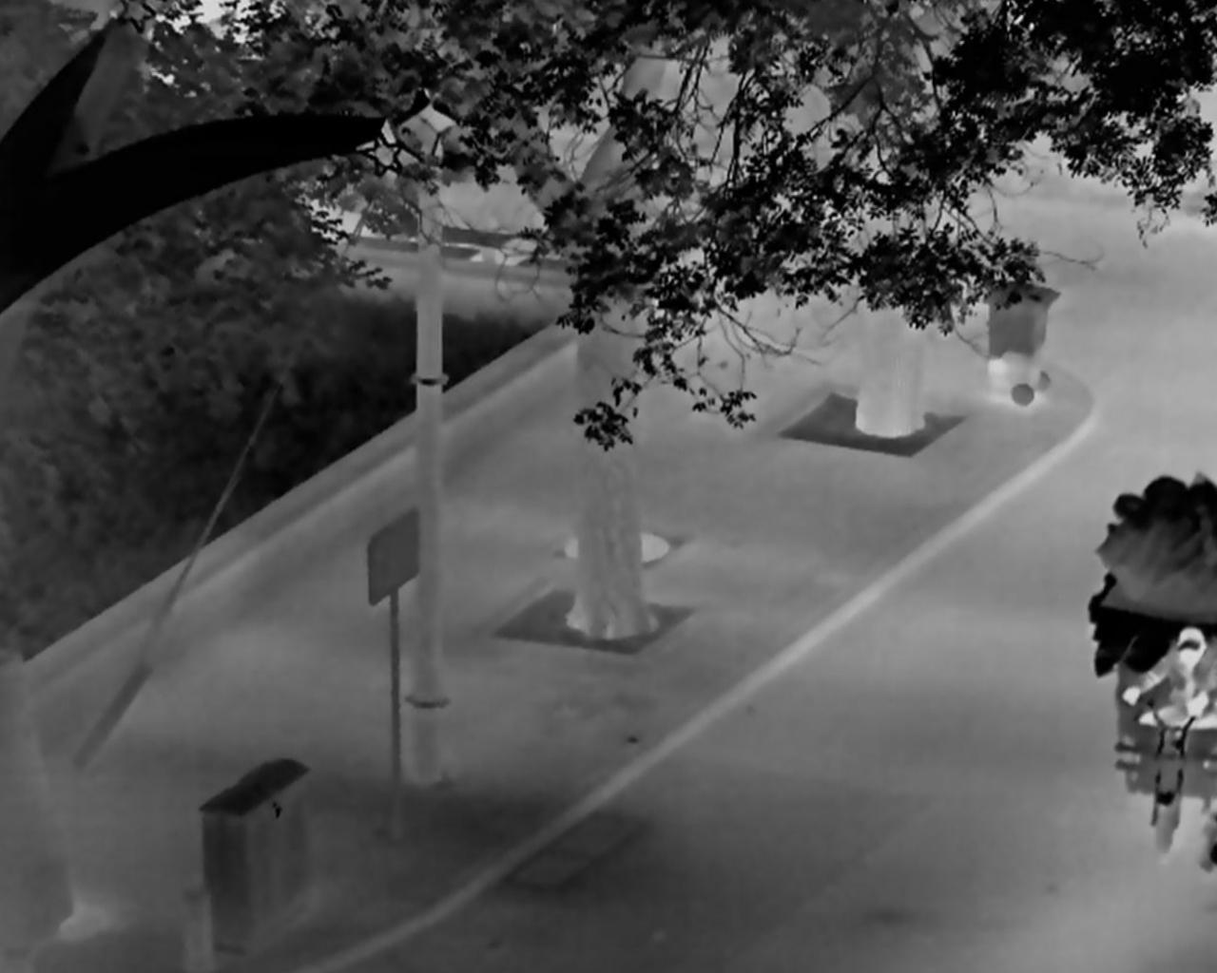person: (1123, 627, 1217, 731)
